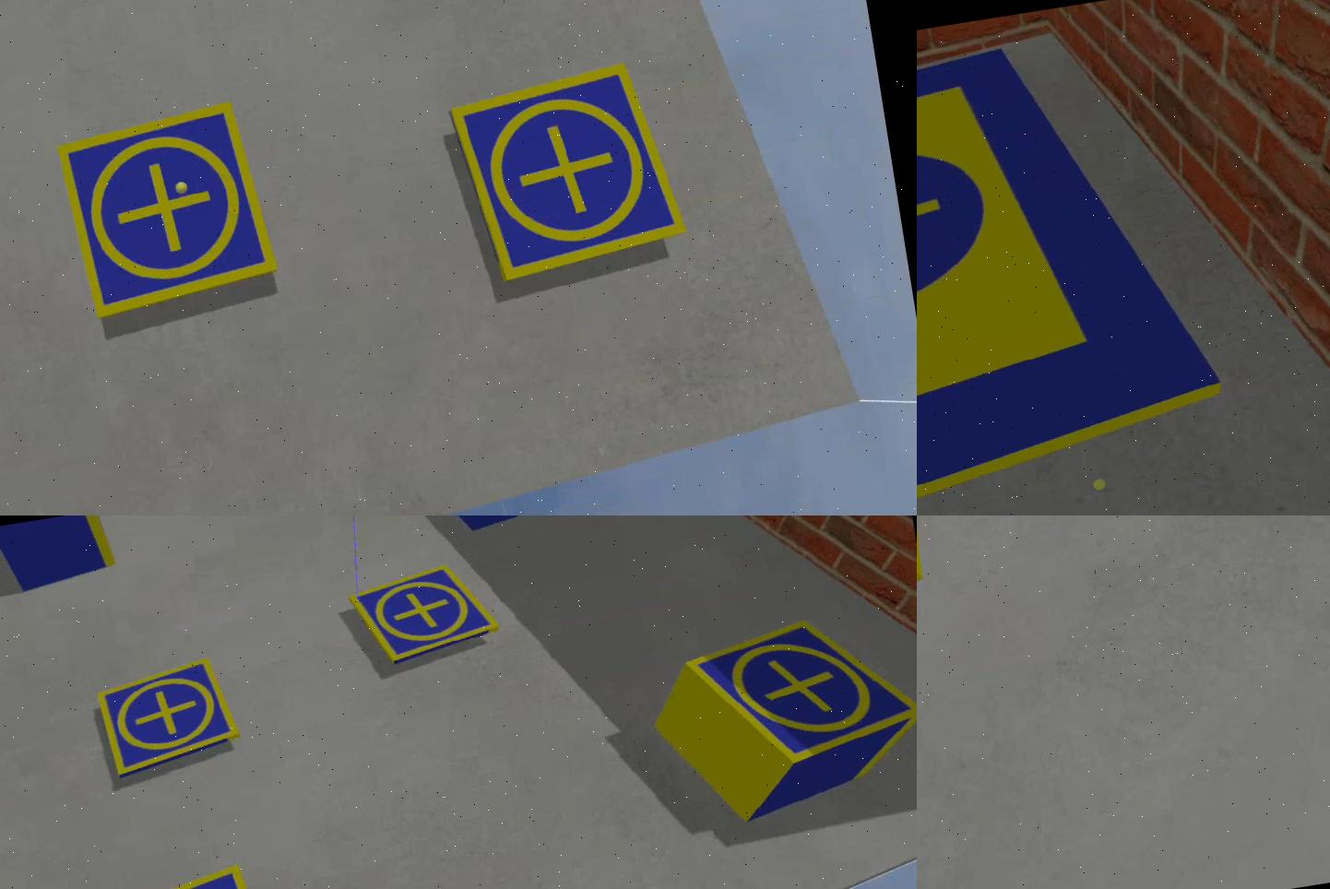large_base: (918, 19, 1249, 516), (410, 516, 661, 536)
small_base: (446, 57, 693, 287), (55, 100, 285, 324), (676, 605, 918, 788), (94, 658, 246, 781), (355, 566, 504, 669)
